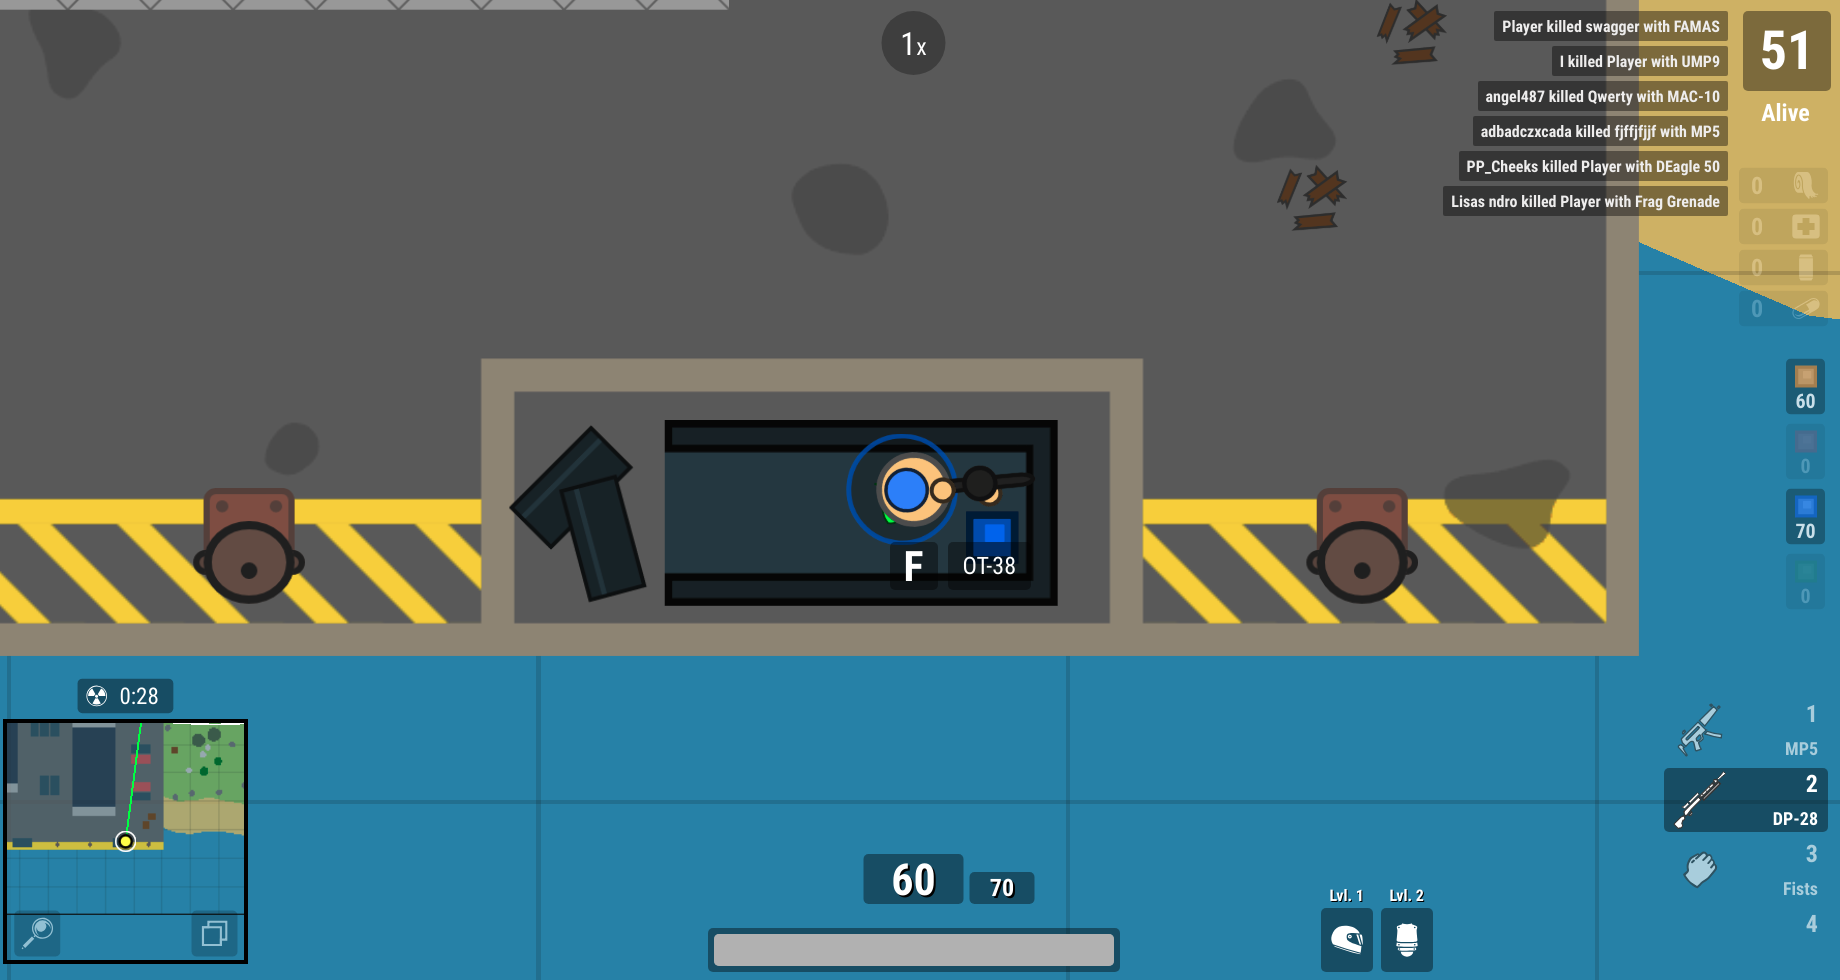Player: (861, 429, 1045, 537)
